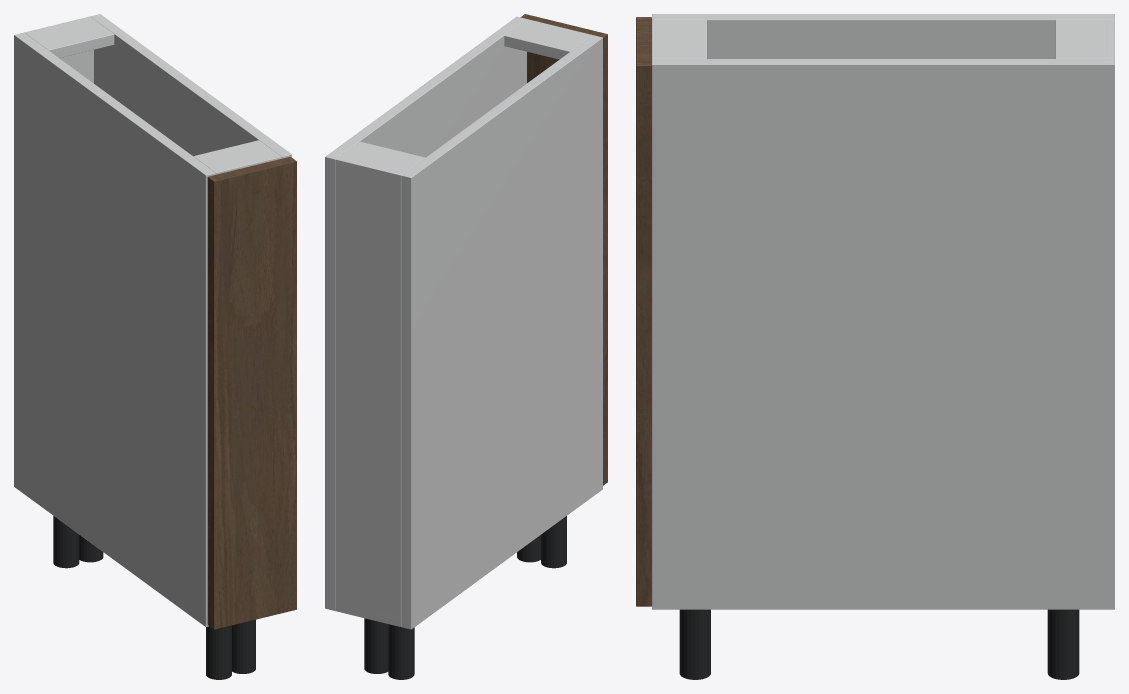
The model's file is oppein-pb-mso-bsr06.glb.
The picture shows the model from 3 angles, left to right: view 1: azimuth 30°, elevation 25°; view 2: azimuth 150°, elevation 25°; view 3: azimuth 270°, elevation 25°; orthographic projection. The views are drawn at different scales.
Parts seen in each view (by area): view 1: Cabinet side, Door, Cabinet side.001, Top support rail, Top support rail.001, Adjustable foot.001, Adjustable foot.003, Adjustable foot, Cabinet back, Adjustable foot.002; view 2: Cabinet side, Cabinet back, Cabinet side.001, Door, Top support rail.001, Adjustable foot, Top support rail, Adjustable foot.002, Adjustable foot.001, Adjustable foot.003; view 3: Cabinet side.001, Cabinet side, Door, Adjustable foot.002, Adjustable foot.003, Top support rail.001, Top support rail.
Boxes of the visible parts, x1=… form: Cabinet side: x1=14, y1=32, x2=215, y2=626; Door: x1=207, y1=156, x2=296, y2=629; Cabinet side.001: x1=90, y1=14, x2=291, y2=158; Top support rail: x1=26, y1=19, x2=114, y2=58; Top support rail.001: x1=193, y1=140, x2=281, y2=174; Adjustable foot.001: x1=206, y1=625, x2=231, y2=679; Adjustable foot.003: x1=232, y1=619, x2=255, y2=673; Adjustable foot: x1=53, y1=516, x2=79, y2=568; Cabinet back: x1=24, y1=16, x2=93, y2=83; Adjustable foot.002: x1=79, y1=535, x2=103, y2=562; Cabinet side: x1=401, y1=35, x2=602, y2=629; Cabinet back: x1=335, y1=156, x2=403, y2=626; Cabinet side.001: x1=325, y1=16, x2=526, y2=610; Door: x1=520, y1=14, x2=607, y2=485; Top support rail.001: x1=504, y1=19, x2=592, y2=59; Adjustable foot: x1=388, y1=624, x2=414, y2=679; Top support rail: x1=339, y1=141, x2=425, y2=173; Adjustable foot.002: x1=364, y1=618, x2=388, y2=673; Adjustable foot.001: x1=541, y1=516, x2=566, y2=568; Adjustable foot.003: x1=517, y1=535, x2=540, y2=562; Cabinet side.001: x1=652, y1=59, x2=1114, y2=609; Cabinet side: x1=652, y1=14, x2=1114, y2=58; Door: x1=636, y1=17, x2=651, y2=606; Adjustable foot.002: x1=1047, y1=609, x2=1079, y2=679; Adjustable foot.003: x1=679, y1=609, x2=710, y2=679; Top support rail.001: x1=652, y1=20, x2=707, y2=58; Top support rail: x1=1055, y1=20, x2=1109, y2=58.
Size of the model in its own units: 0.1524 by 0.8763 by 0.6064.
Materials: 4 (1 with a texture image).
